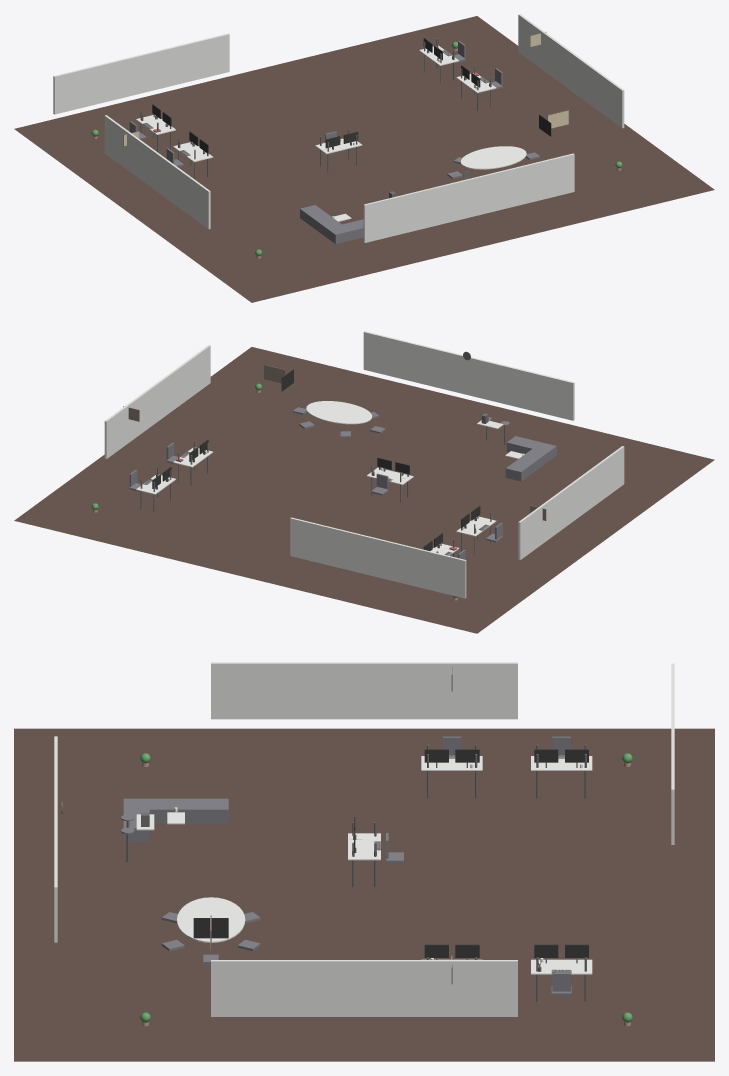
File: office_v28.glb
3 views of the same model, one above another, from view 1: azimuth 30°, elevation 25°; view 2: azimuth 150°, elevation 25°; view 3: azimuth 270°, elevation 25° (orthographic). The views are drawn at different scales.
Visible parts, largest first — view 1: Floor, Cube, Cube.001, Cube.002, Cube.003, Cylinder.050, Cube.266, Cube.267; view 2: Floor, Cube, Cube.001, Cube.002, Cube.003, Cylinder.050, Cube.266, Cube.267; view 3: Floor, Cube.002, Cube.003, Cube.266, Cylinder.050, Cube.267, Desk_5, Cube, Desk_3, Cube.265, Cube.001.
Boxes of the visible parts, x1=… form: Floor: x1=14, y1=16, x2=714, y2=302; Cube: x1=363, y1=153, x2=574, y2=242; Cube.001: x1=53, y1=33, x2=229, y2=114; Cube.002: x1=104, y1=115, x2=210, y2=229; Cube.003: x1=518, y1=14, x2=624, y2=128; Cylinder.050: x1=460, y1=146, x2=526, y2=169; Cube.266: x1=300, y1=205, x2=341, y2=237; Cube.267: x1=326, y1=219, x2=363, y2=243; Floor: x1=14, y1=347, x2=714, y2=633; Cube: x1=363, y1=331, x2=574, y2=420; Cube.001: x1=290, y1=517, x2=466, y2=598; Cube.002: x1=518, y1=446, x2=624, y2=560; Cube.003: x1=104, y1=345, x2=210, y2=459; Cylinder.050: x1=306, y1=401, x2=372, y2=424; Cube.266: x1=505, y1=449, x2=547, y2=481; Cube.267: x1=506, y1=436, x2=556, y2=461; Floor: x1=14, y1=728, x2=714, y2=1061; Cube.002: x1=211, y1=662, x2=517, y2=719; Cube.003: x1=211, y1=960, x2=517, y2=1016; Cube.266: x1=149, y1=798, x2=228, y2=823; Cylinder.050: x1=177, y1=897, x2=245, y2=942; Cube.267: x1=123, y1=798, x2=149, y2=842; Desk_5: x1=531, y1=959, x2=592, y2=974; Cube: x1=54, y1=736, x2=57, y2=942; Desk_3: x1=348, y1=833, x2=380, y2=860; Cube.265: x1=193, y1=918, x2=228, y2=938; Cube.001: x1=671, y1=663, x2=674, y2=844.
Size of the model in its own units: 18 by 2.72 by 16.
